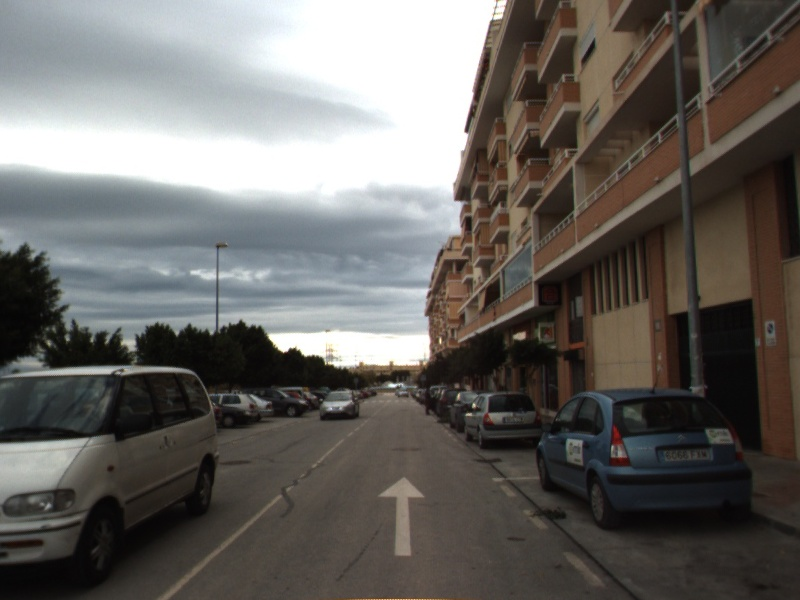STRAIGHT: (376, 474, 428, 558)
